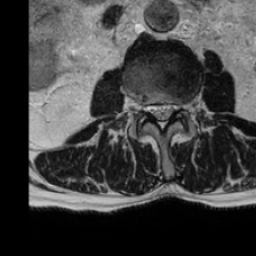CCS_normal: (157, 97, 166, 135)
LFS_severe_stenosis: (176, 97, 184, 119)
LLS_normal: (166, 97, 175, 122)
RFS_stenosis: (141, 98, 150, 121)
RLS_normal: (149, 97, 157, 123)
